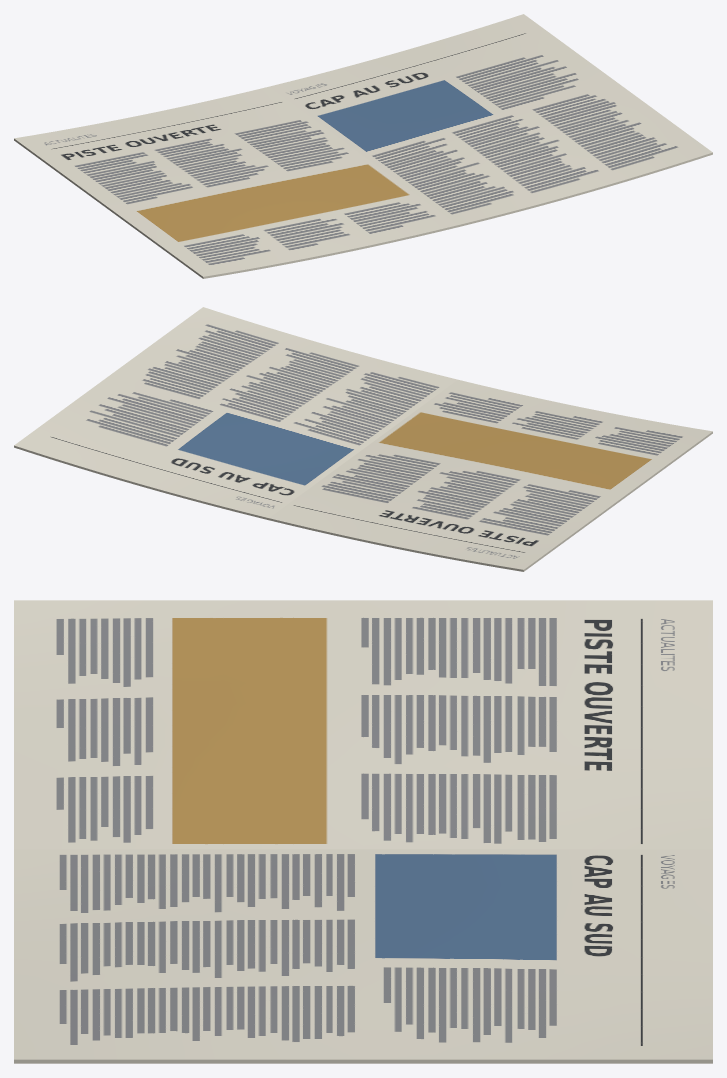
The model's file is journal_ouvert.glb.
3 views of the same model, one above another, from view 1: azimuth 30°, elevation 25°; view 2: azimuth 150°, elevation 25°; view 3: azimuth 270°, elevation 25° (orthographic). The views are drawn at different scales.
Parts seen in each view (by area): view 1: JOU_Page_D, JOU_Page_G; view 2: JOU_Page_D, JOU_Page_G; view 3: JOU_Page_G, JOU_Page_D.
Part boxes in pixels (x1,y1,x2,y2): JOU_Page_D: [269, 14, 712, 227]; JOU_Page_G: [14, 86, 457, 278]; JOU_Page_D: [14, 307, 457, 520]; JOU_Page_G: [269, 379, 712, 571]; JOU_Page_G: [14, 600, 712, 849]; JOU_Page_D: [14, 849, 712, 1063].
Size of the model in its own units: 0.56 by 0.0132 by 0.36.
Materials: 1 (1 with a texture image).
